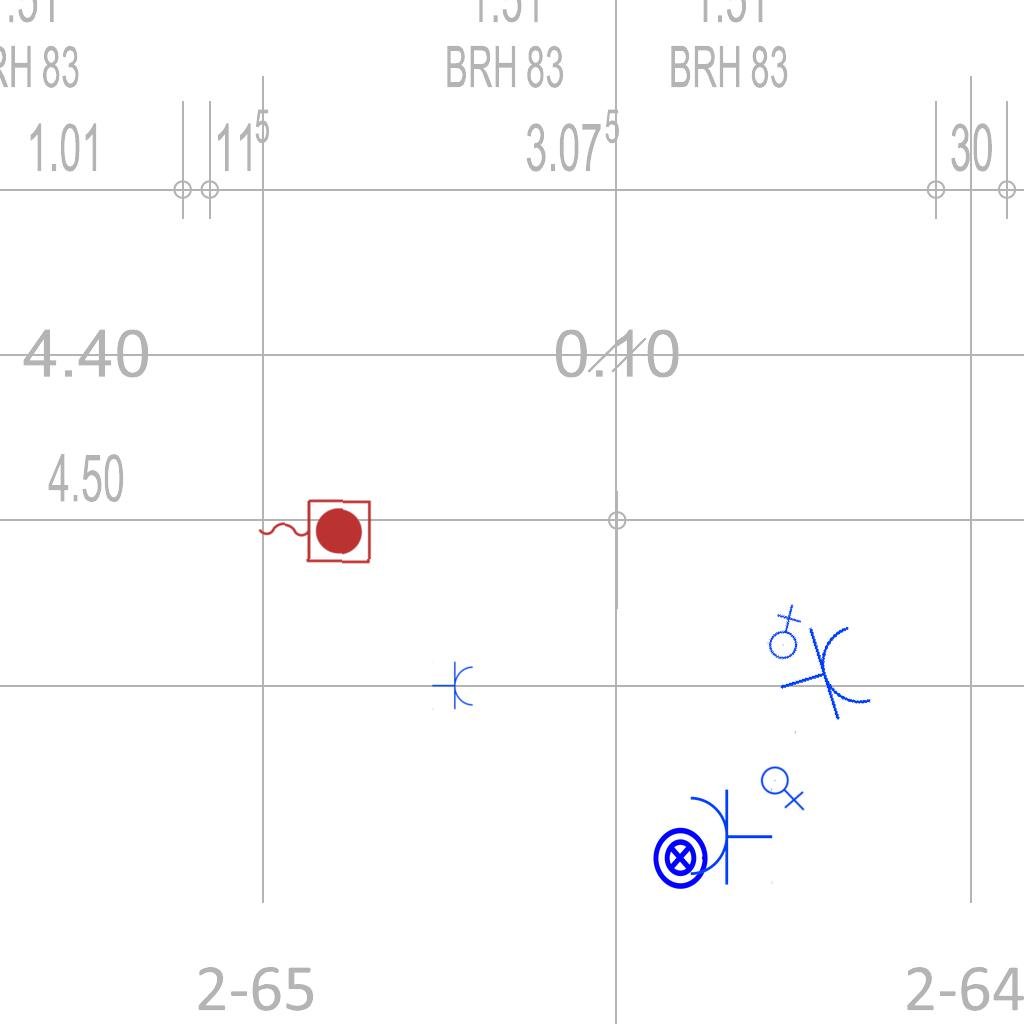Elektroanschluss_allgemein_230V_Geraeteanschlussdose_230V: (750, 601, 817, 668), (760, 762, 807, 811)
Schukosteckdose_einfach: (765, 614, 879, 737), (686, 786, 773, 886), (432, 661, 475, 711)
Taster_beleuchtet: (647, 825, 713, 891)
Zugtaster: (252, 492, 376, 568)
